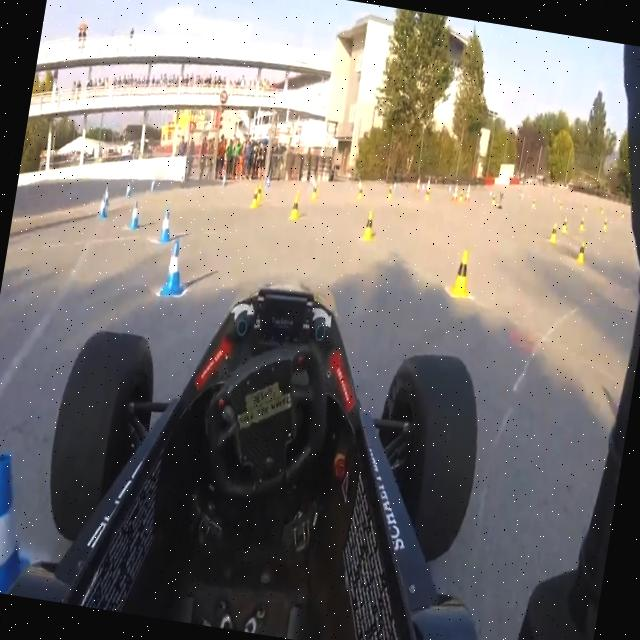blue_cone: (0, 436, 49, 597), (446, 243, 481, 299), (160, 237, 192, 297), (120, 195, 152, 242), (90, 184, 118, 233), (152, 208, 178, 248), (286, 190, 306, 229), (360, 209, 380, 243), (250, 186, 264, 218)
